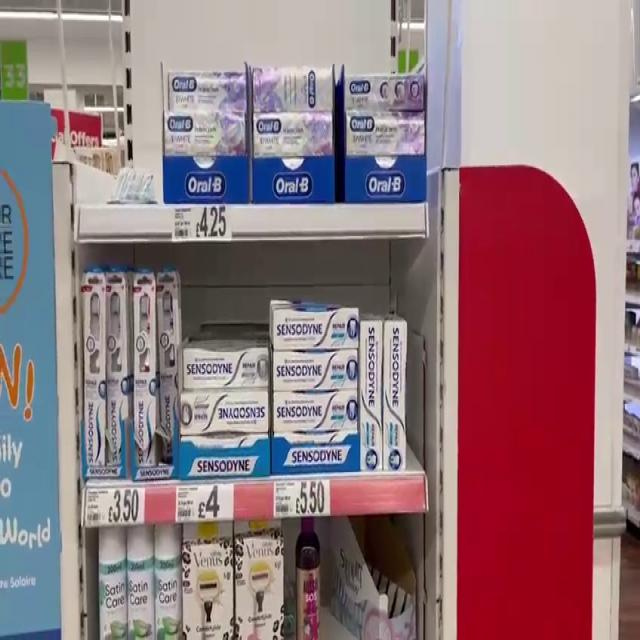Other: (232, 514, 288, 640), (181, 517, 236, 640), (96, 518, 130, 640), (153, 518, 187, 640), (126, 517, 157, 640), (294, 516, 323, 640)
Toothbrush: (78, 264, 110, 483), (105, 259, 133, 487), (130, 261, 159, 481), (154, 269, 183, 476)
Toothpaste: (178, 387, 276, 440), (343, 108, 431, 166), (159, 110, 253, 164), (249, 108, 339, 164), (380, 316, 411, 478), (179, 344, 275, 396), (245, 61, 339, 114), (338, 70, 431, 120), (270, 302, 364, 351), (270, 344, 361, 394), (270, 391, 363, 436), (359, 315, 384, 477), (167, 69, 250, 116)
